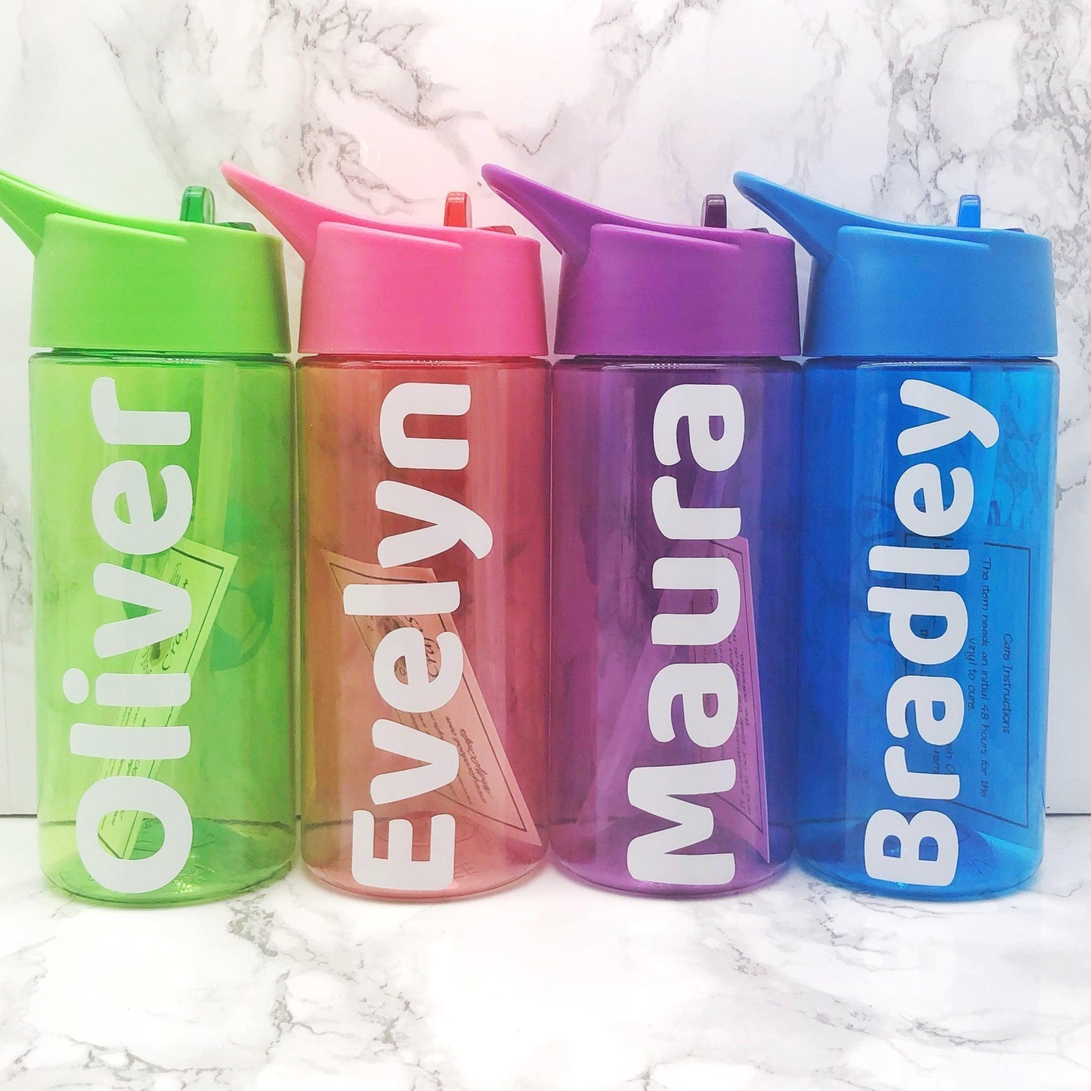gym bottle: (7, 170, 302, 915), (793, 170, 1066, 908), (542, 171, 805, 905), (291, 185, 553, 907)
